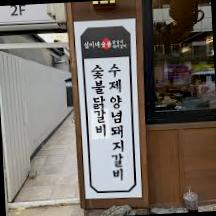galbi: (90, 109, 110, 140), (111, 152, 128, 184)
